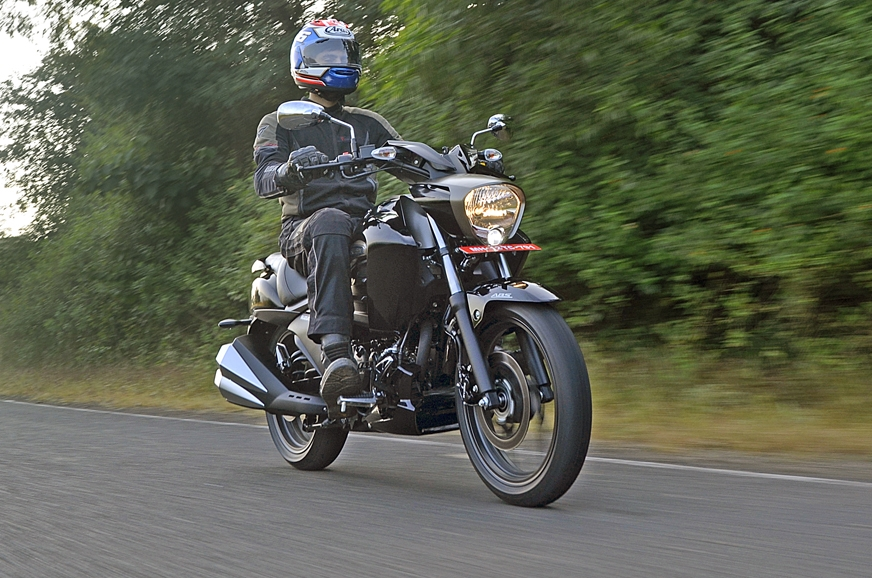helmet: (288, 19, 360, 93)
